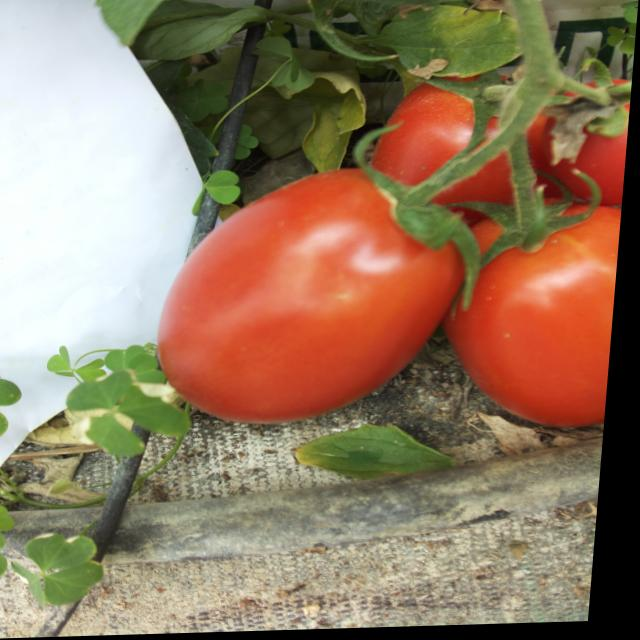kirmizi: (158, 137, 630, 458)
